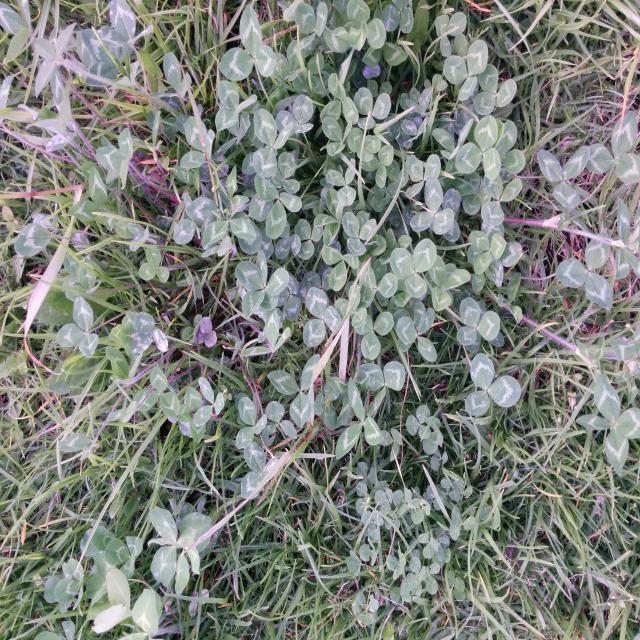Four Leaf Clover: (236, 249, 289, 318)
